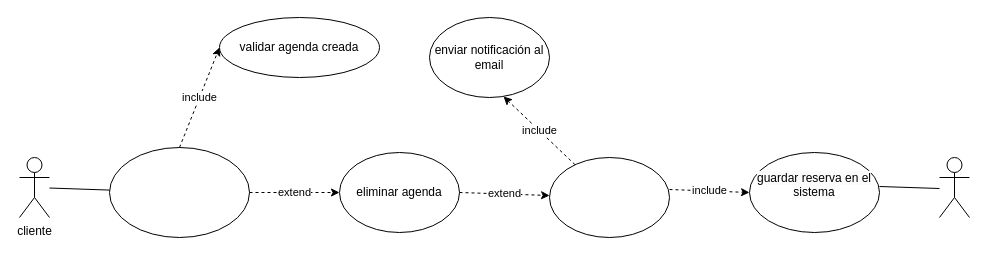
The diagram is 992 pixels wide and 256 high, and some of its shapes have lost their labels. Each missing label, with the centre of its shape:
"acceso a modulo eliminación de agenda" belongs at (179,192).
"mostrar resumen de la eliminación de agenda" belongs at (609,197).
"sistema" belongs at (954,187).
